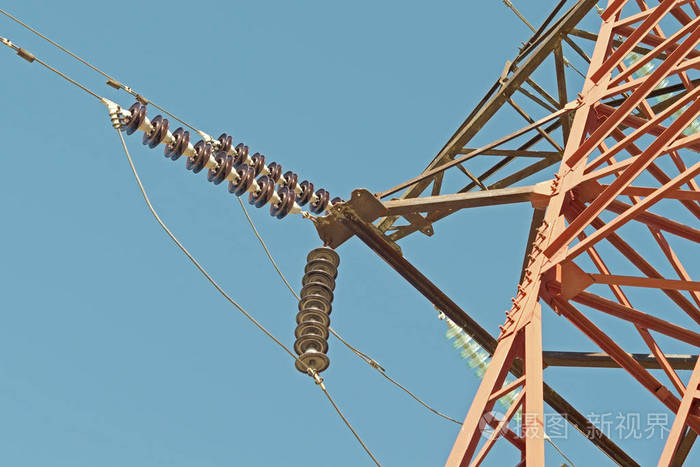insulator: (118, 102, 296, 220), (220, 132, 329, 212), (443, 323, 525, 418), (291, 247, 341, 372), (629, 50, 700, 131)
